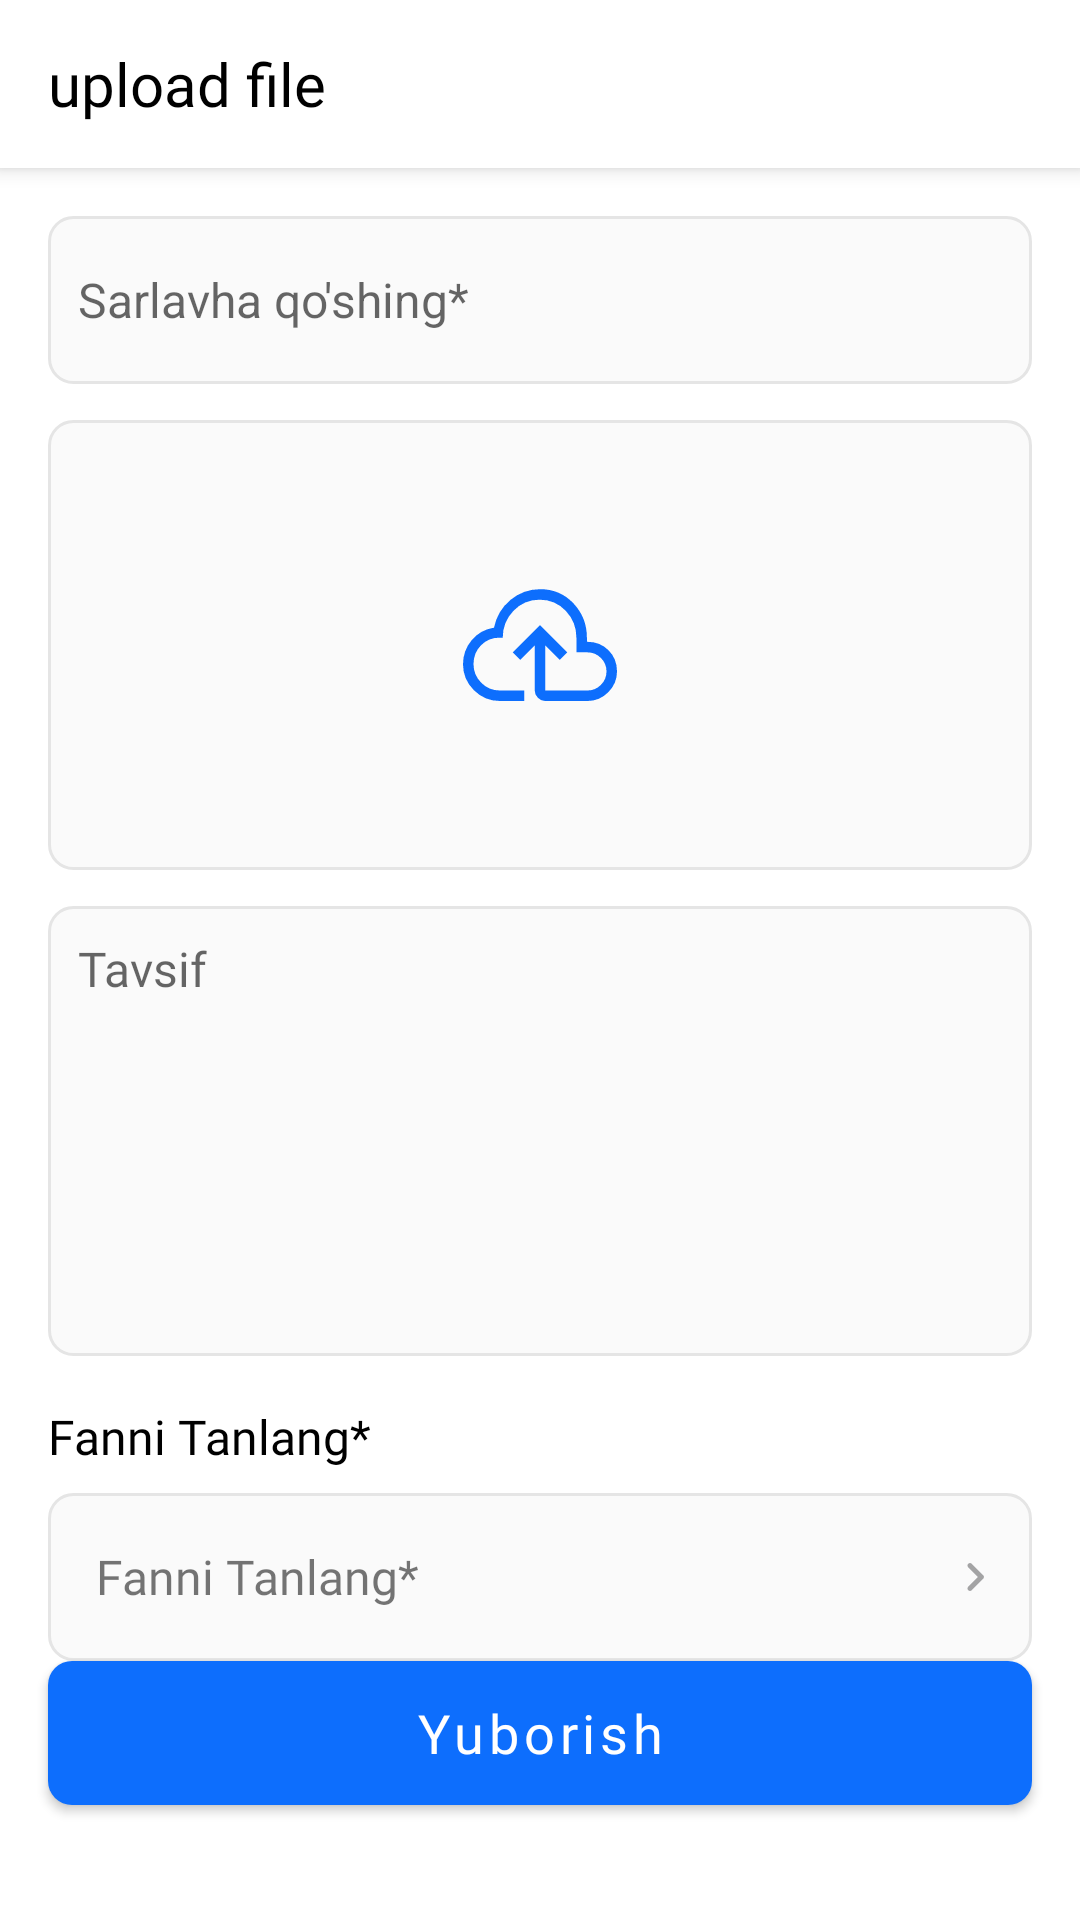

Screen size 1080px x 1920px. Icon name, then its center in pixels as (x,y):
cloud upload: (540,645)
